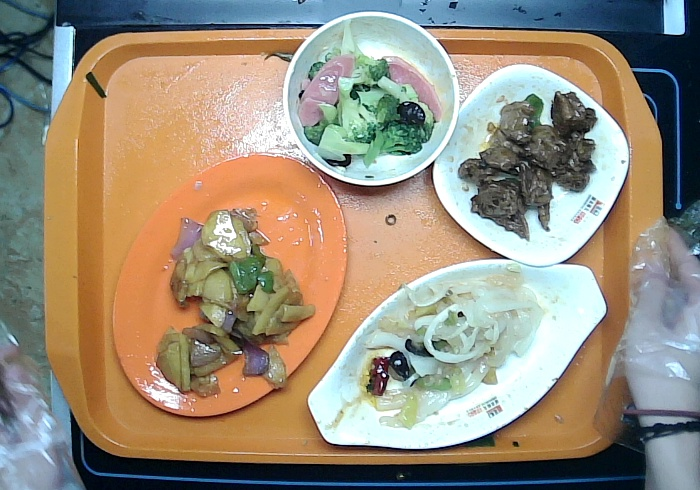NLDX-Bai_Se_Xiao_Fang_Die: (433, 63, 632, 272)
NLDX-Fan_Wan: (282, 9, 461, 189)
NLDX-Ju_Se_Pan: (110, 152, 348, 420)
NLDX-Yu_Pan: (305, 258, 611, 450)
